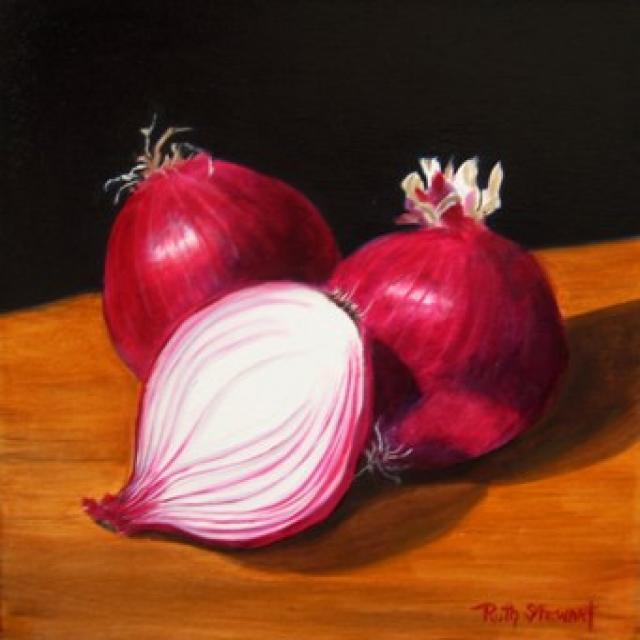onion: (318, 147, 574, 486), (101, 275, 371, 553), (104, 156, 343, 384)
